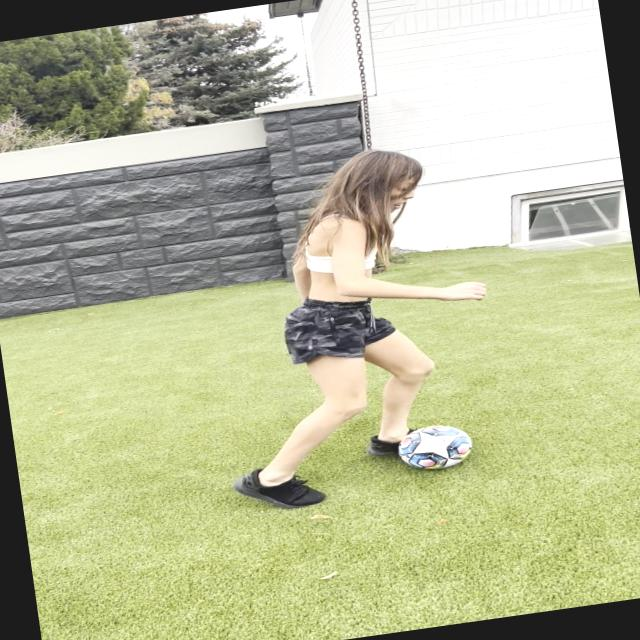Soccer Ball: (396, 421, 475, 474)
